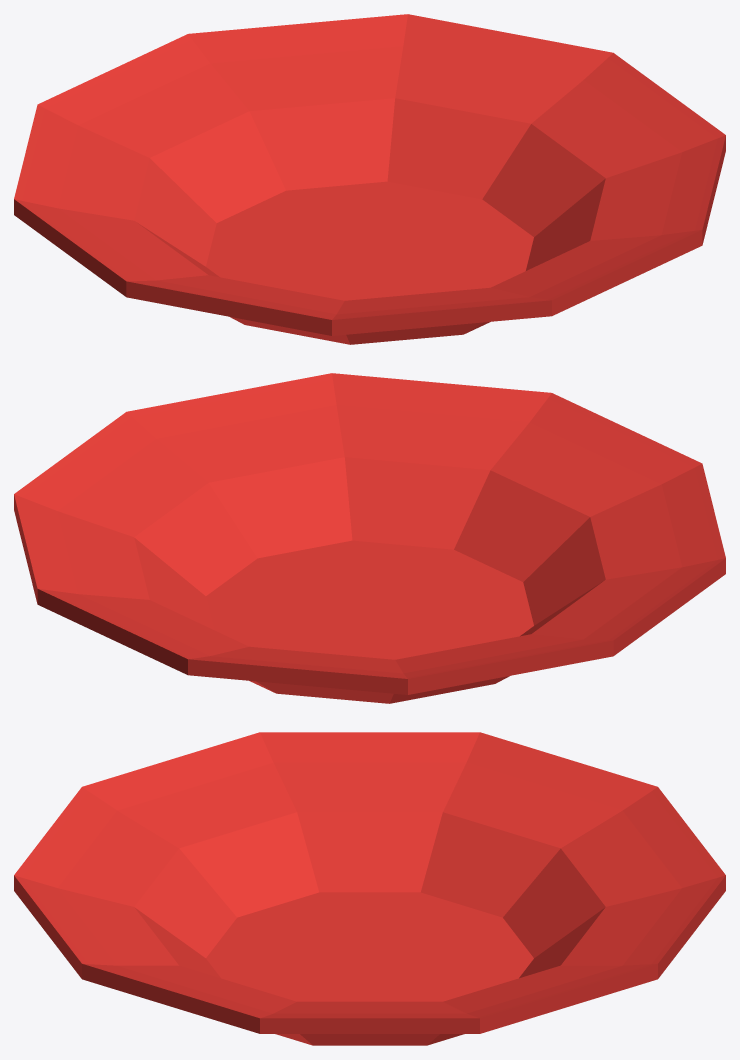
The model's file is SM_Plate_Soup_Christmas.fbx.
3 views of the same model, one above another, from view 1: azimuth 30°, elevation 25°; view 2: azimuth 150°, elevation 25°; view 3: azimuth 270°, elevation 25° (orthographic). The views are drawn at different scales.
Visible parts, largest first — view 1: plate-soup-christmas; view 2: plate-soup-christmas; view 3: plate-soup-christmas.
Part boxes in pixels (x1,y1,x2,y2): plate-soup-christmas: [14, 14, 725, 344]; plate-soup-christmas: [14, 373, 725, 703]; plate-soup-christmas: [14, 732, 725, 1045].
Bounding box in the file's own units: 0.2599 × 0.041 × 0.2733.
